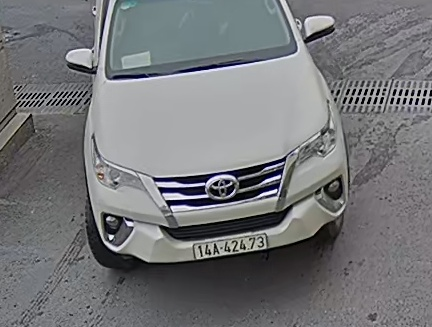vehicle plate: (189, 231, 270, 256)
